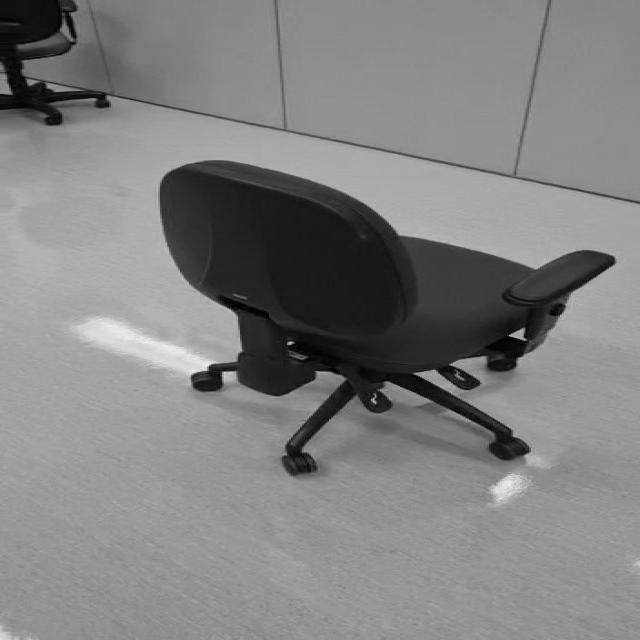chair: (160, 160, 616, 474)
